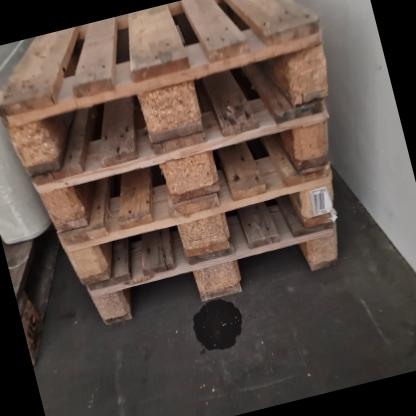BoxFace: (0, 0, 331, 179), (32, 104, 330, 234), (62, 174, 336, 288), (87, 227, 341, 331)
